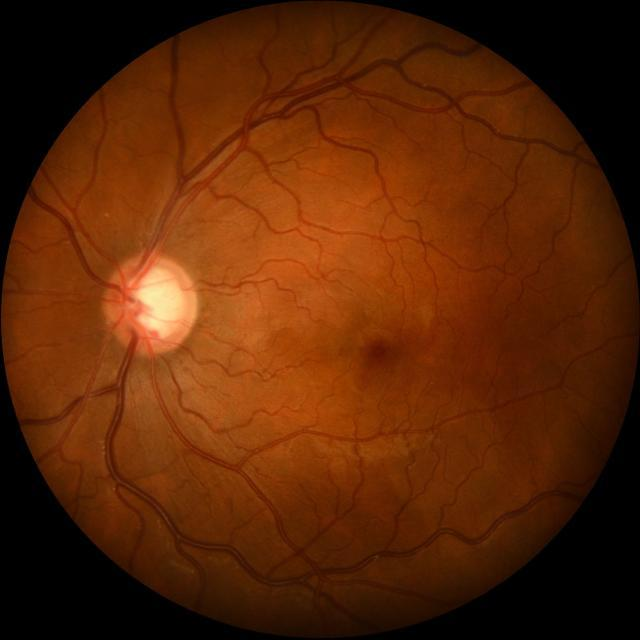OC: (124, 268, 182, 340)
OD: (104, 253, 198, 354)
